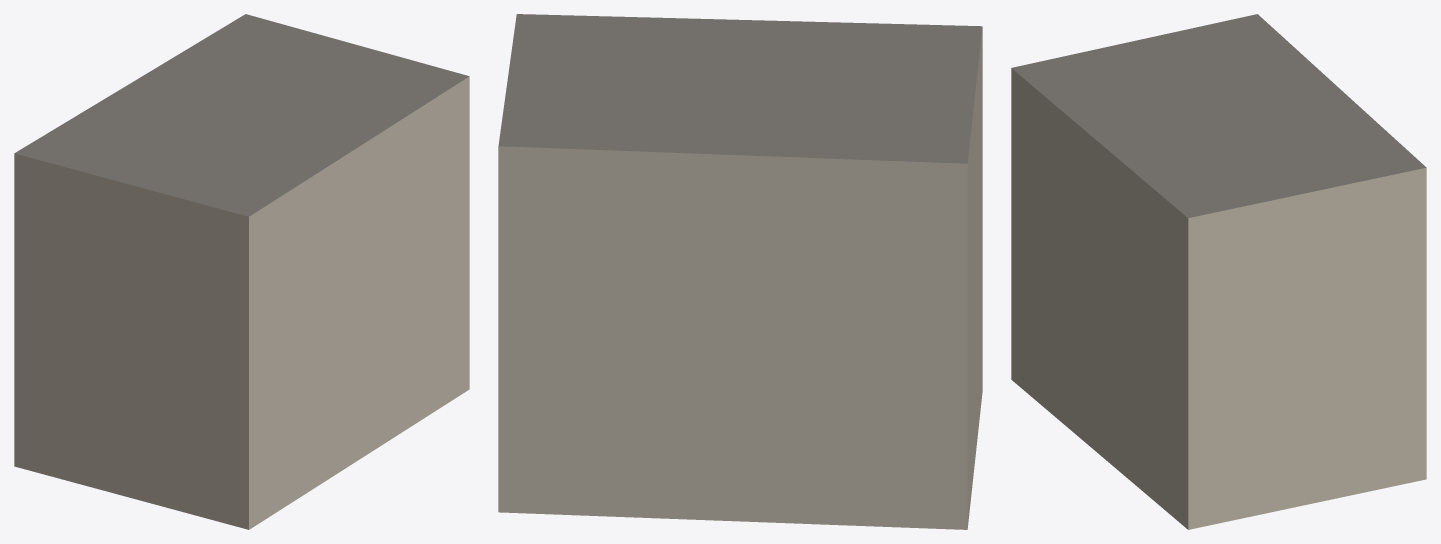
3 renders of one model, left to right at view 1: azimuth 30°, elevation 25°; view 2: azimuth 150°, elevation 25°; view 3: azimuth 270°, elevation 25°, orthographic. The views are drawn at different scales.
Parts seen in each view (by area): view 1: HP-w505633361; view 2: HP-w505633361; view 3: HP-w505633361.
Part boxes in pixels (x1,y1,x2,y2): HP-w505633361: (14,14,469,529); HP-w505633361: (498,14,982,529); HP-w505633361: (1011,14,1426,529).
Bounding box in the file's own units: 21.08 × 15 × 18.12.
